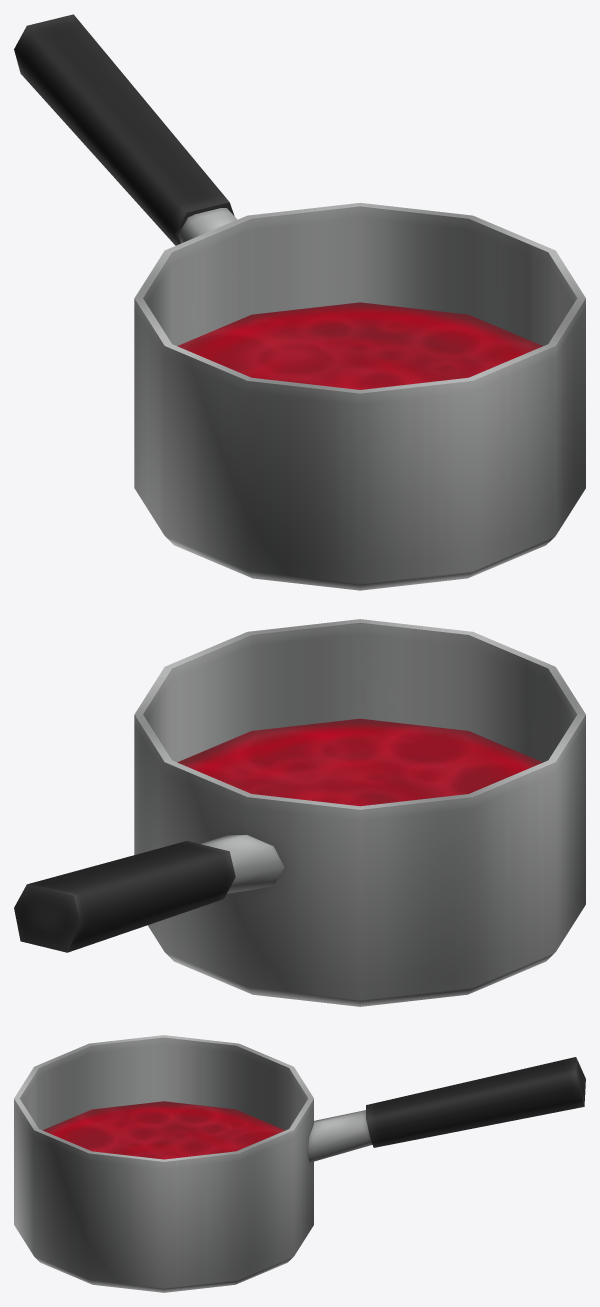
Rendered from jsf_Pot_02b.fbx.
3 renders of one model, top to bottom at view 1: azimuth 30°, elevation 25°; view 2: azimuth 150°, elevation 25°; view 3: azimuth 270°, elevation 25°, orthographic. The views are drawn at different scales.
Parts seen in each view (by area): view 1: jsf_Pot_02b; view 2: jsf_Pot_02b; view 3: jsf_Pot_02b.
Boxes of the visible parts, <box> form: jsf_Pot_02b: <box>14,14,585,590</box>; jsf_Pot_02b: <box>14,619,585,1006</box>; jsf_Pot_02b: <box>14,1035,585,1292</box>.
Size of the model in its own units: 18.61 by 11.5 by 35.47.
